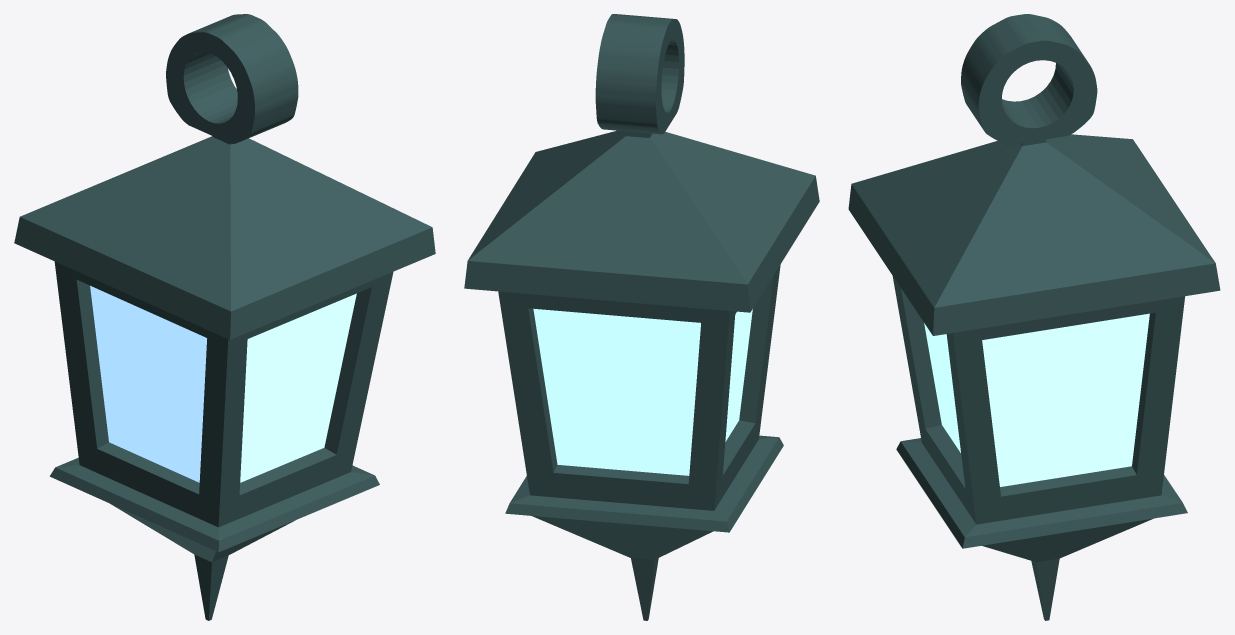
File: fantasy_lantern.gltf
The picture shows the model from 3 angles, left to right: view 1: azimuth 30°, elevation 25°; view 2: azimuth 150°, elevation 25°; view 3: azimuth 270°, elevation 25°; orthographic projection.
Visible parts, largest first — view 1: StreetLantern_Material_0; view 2: StreetLantern_Material_0; view 3: StreetLantern_Material_0.
Part boxes in pixels (<box>): StreetLantern_Material_0: <box>14,14,435,620</box>; StreetLantern_Material_0: <box>464,14,819,620</box>; StreetLantern_Material_0: <box>848,14,1220,620</box>.
Bounding box in the file's own units: 1.88 × 3.35 × 1.88.
1 material, 1 textured.
